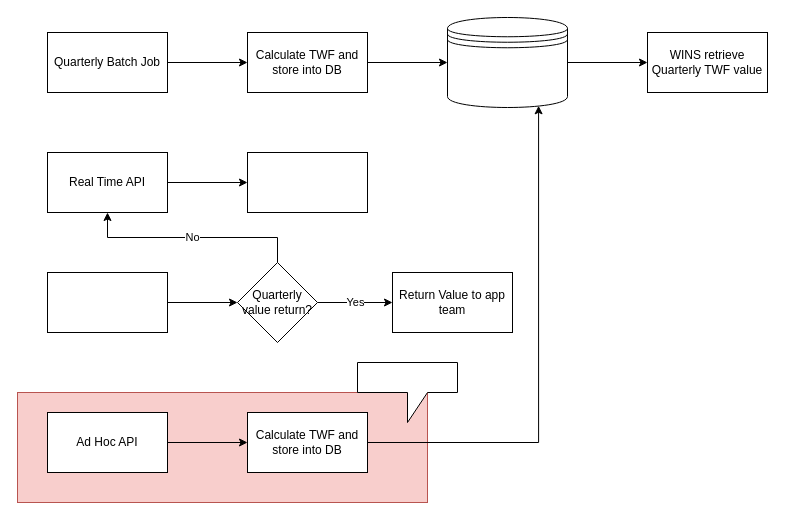
This 785x520 diagram has some shape labels left out. The centre of each missing label's shape, as x and y in pixels:
App Team to call API and get Quarterly value: pixel 107 302
Calculate Latest TWF and return via API: pixel 307 182
This no need: pixel 407 392
TWF: pixel 507 62
